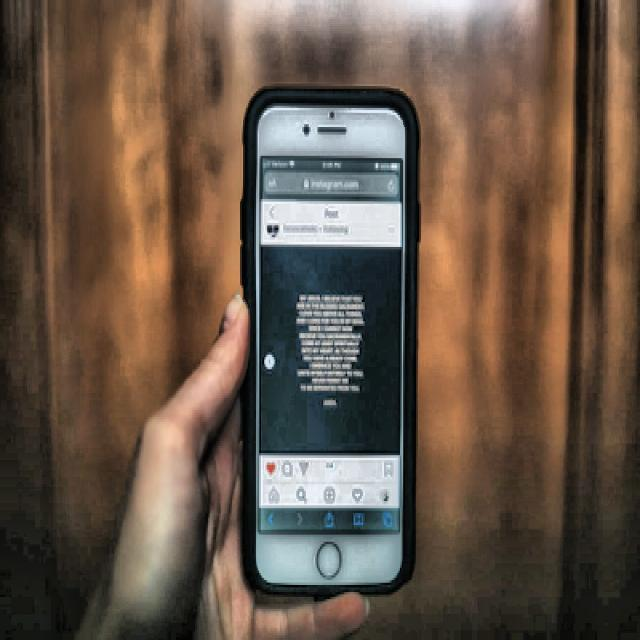Phone: (240, 82, 418, 606)
